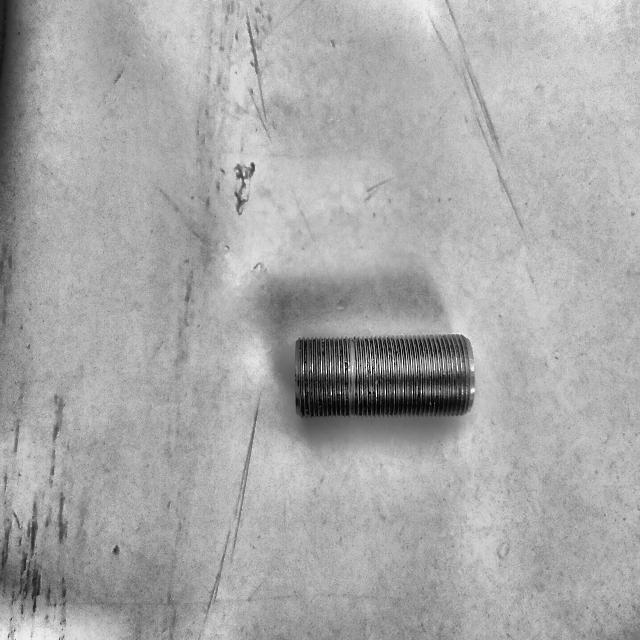Broken: (294, 330, 477, 421)
